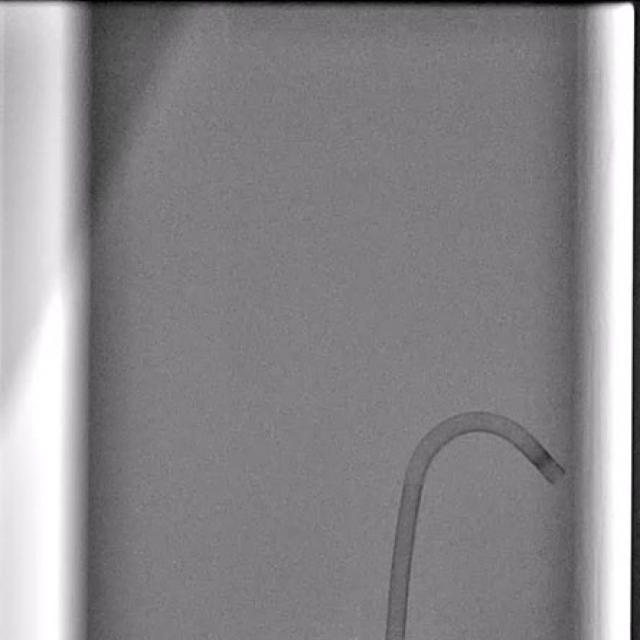bend: (405, 468, 426, 484)
entry: (386, 634, 406, 640)
marker: (534, 451, 553, 470)
tip: (551, 470, 566, 486)
